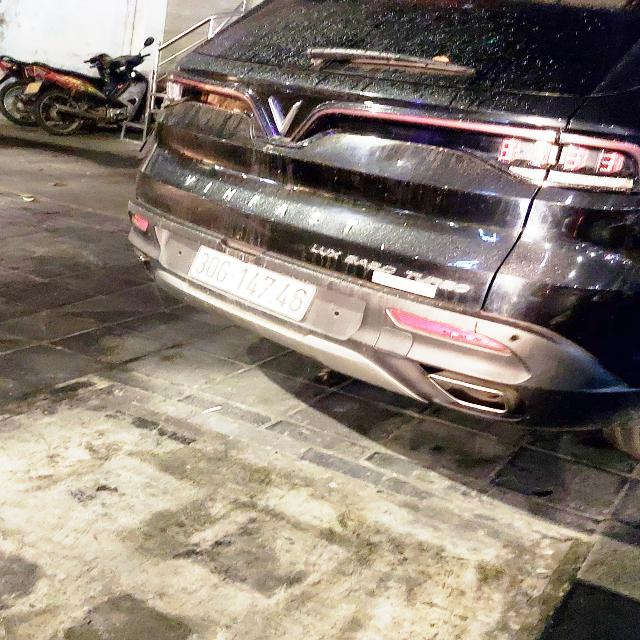license_plate: (186, 245, 319, 323)
